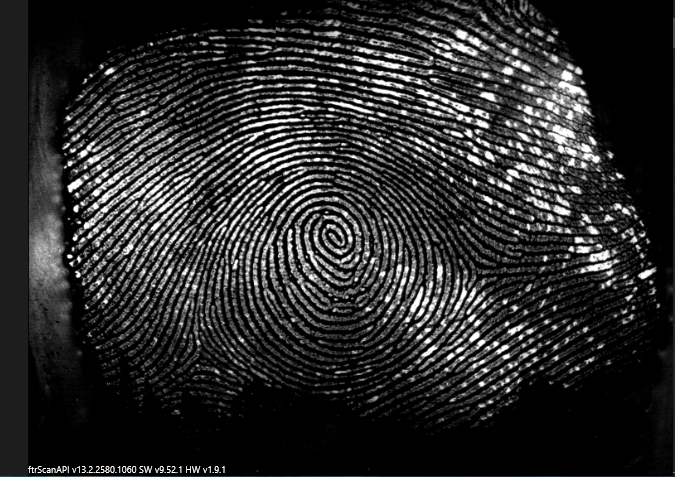deltas: (437, 237, 513, 307), (173, 327, 234, 381)
nucleo: (295, 206, 370, 270)
